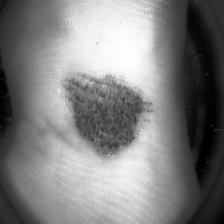Benign Marking or Mole: (62, 74, 146, 155)
